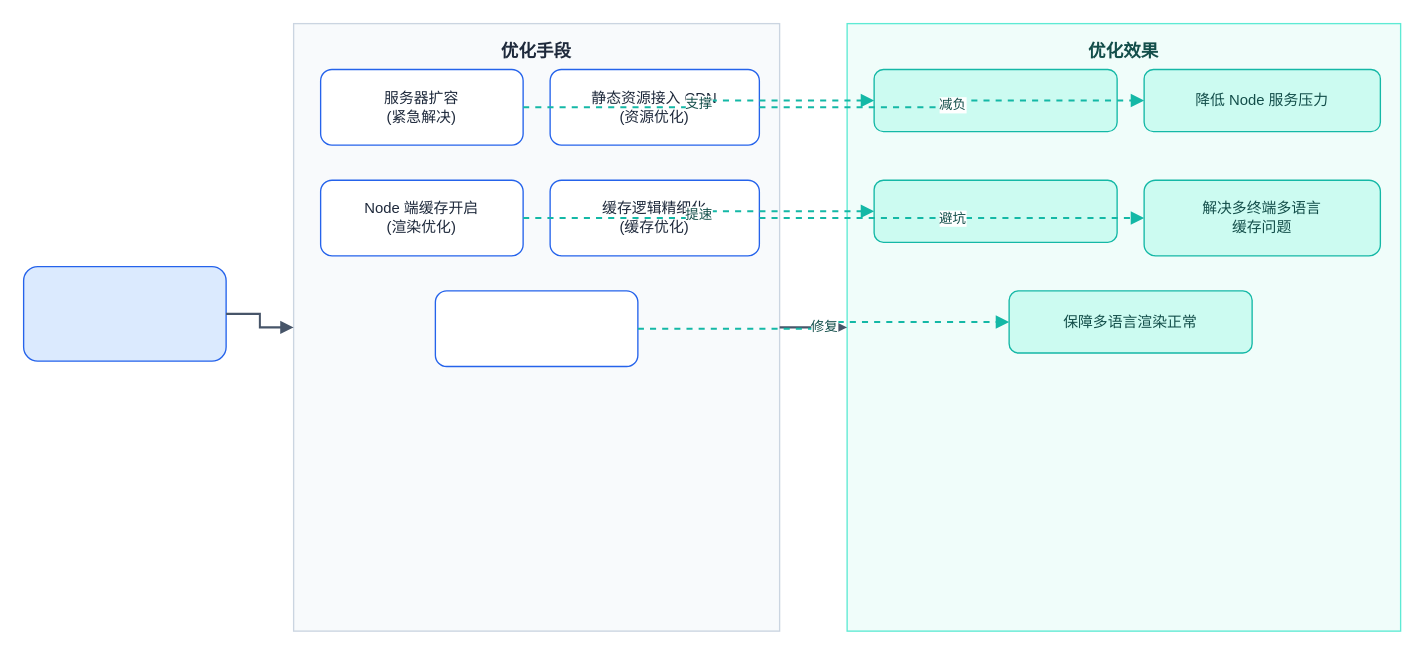
This 1424x655 diagram has some shape labels left out. The centre of each missing label's shape, as x and y in pixels:
"优化入口 先堆资源,再精细化" goes at (124,313).
"保障高峰期稳定性" goes at (995,100).
"减少重复渲染耗时" goes at (995,210).
"多语言渲染适配 (功能修复)" goes at (536,328).
